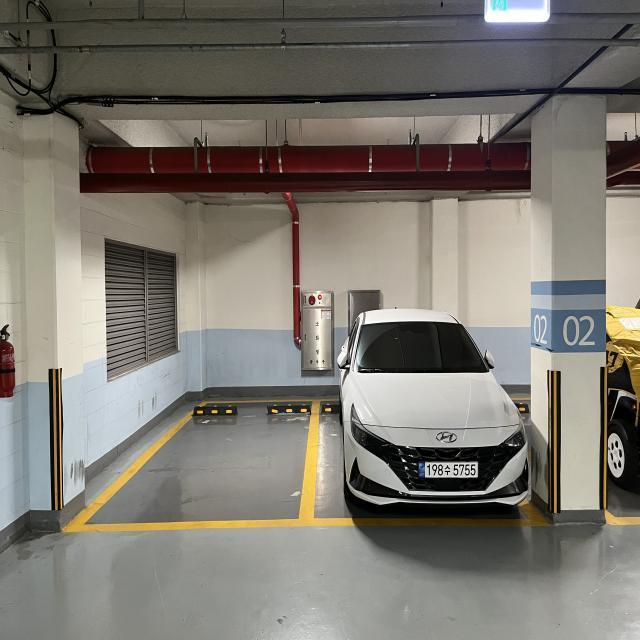empty: (67, 392, 316, 529)
occupied: (332, 298, 545, 542)
